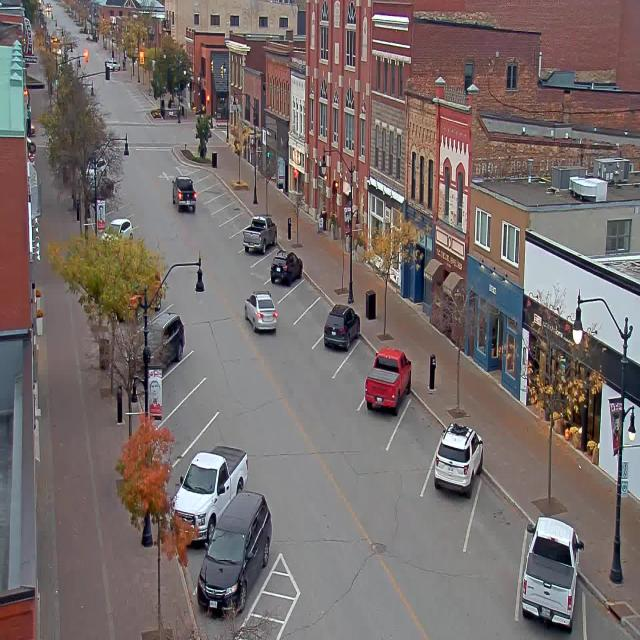available: (472, 468, 531, 560), (393, 392, 445, 470), (581, 579, 640, 640), (180, 367, 222, 432), (336, 324, 376, 382), (198, 402, 235, 462), (170, 342, 206, 395), (304, 293, 336, 327), (287, 270, 316, 304), (260, 235, 286, 262), (233, 210, 249, 233), (225, 199, 239, 221), (194, 162, 207, 181), (218, 191, 230, 210), (210, 181, 222, 199), (204, 173, 216, 191)
occupied: (196, 489, 272, 617), (170, 444, 249, 547), (521, 515, 584, 631), (434, 421, 484, 497), (364, 346, 412, 414), (143, 310, 185, 366), (323, 303, 360, 351), (242, 214, 277, 254), (270, 248, 303, 286)
